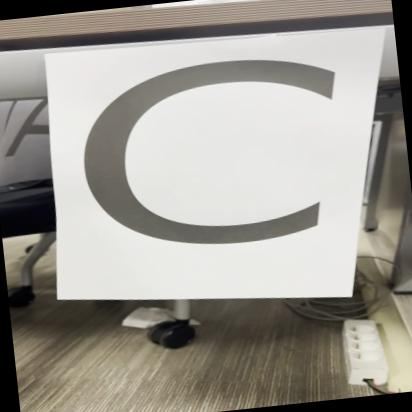seat: (49, 24, 402, 325)
